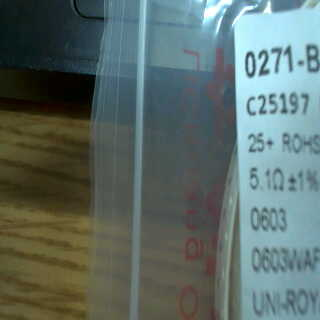5.1R: (247, 163, 287, 197)
